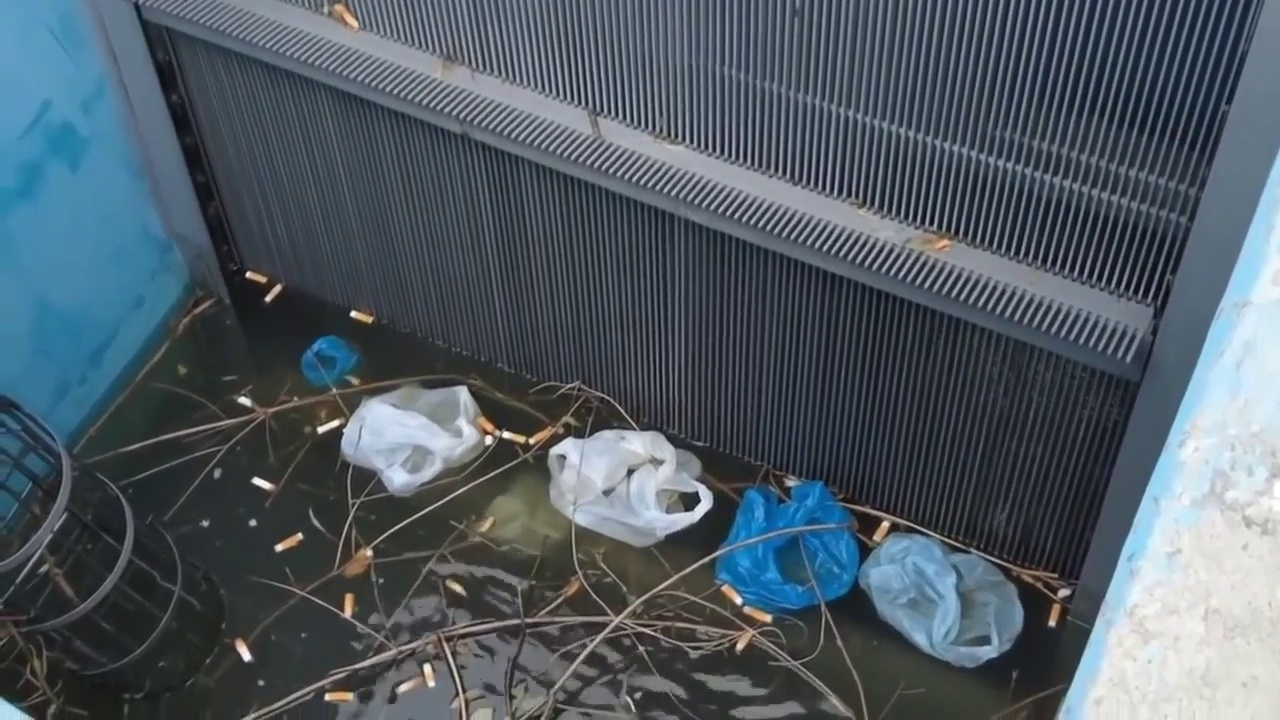debris: (715, 481, 1023, 666), (548, 430, 713, 546), (342, 386, 491, 494)
